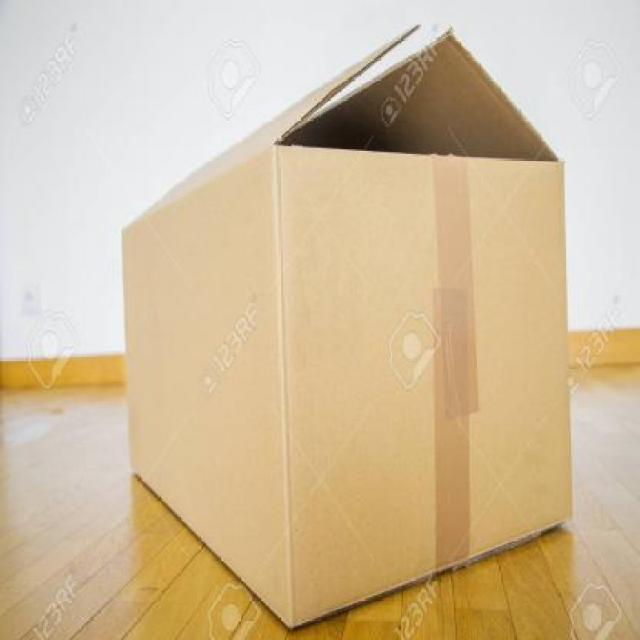box: (124, 44, 576, 630)
